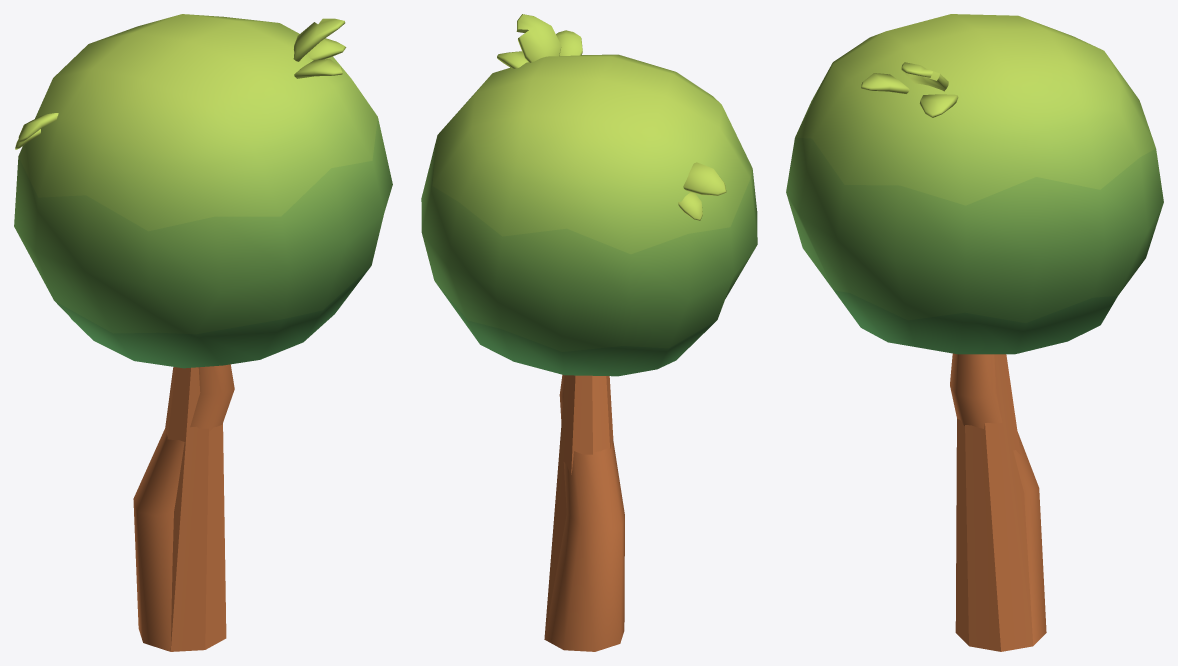
Rendered from tree 02.fbx.
3 views of the same model, side by side, from view 1: azimuth 30°, elevation 25°; view 2: azimuth 150°, elevation 25°; view 3: azimuth 270°, elevation 25° (orthographic). The views are drawn at different scales.
Parts seen in each view (by area): view 1: tree 02, tree 02 low; view 2: tree 02, tree 02 low; view 3: tree 02, tree 02 low.
Boxes of the visible parts, bbox=[...] form: tree 02: bbox=[14, 14, 392, 651]; tree 02 low: bbox=[165, 367, 226, 651]; tree 02: bbox=[421, 14, 757, 651]; tree 02 low: bbox=[544, 375, 613, 636]; tree 02: bbox=[786, 14, 1163, 645]; tree 02 low: bbox=[955, 354, 1033, 651].
Bounding box in the file's own units: 208 × 373 × 206.
1 material, 1 textured.
